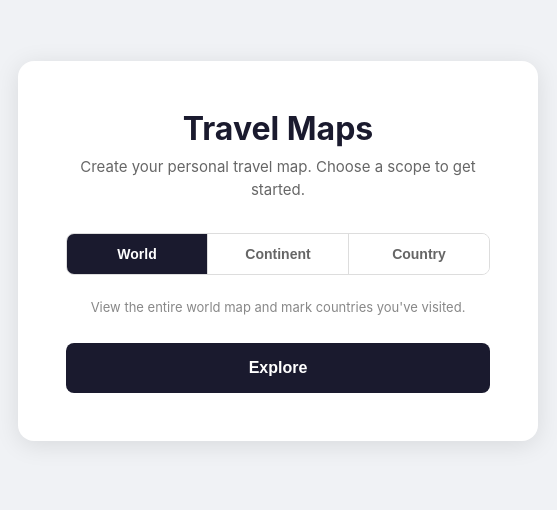
Scenario: LandingPage Component › disables explore when continent not selected
Click the button "Continent": (278, 254) [208,234,349,274]
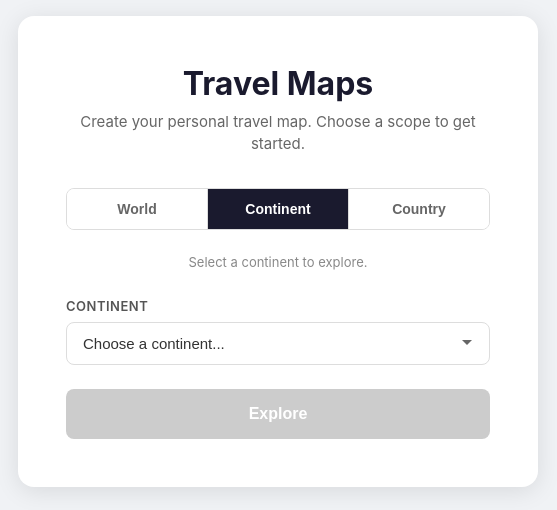
Expected: the button "Explore" is disabled, [66,388,490,438]
